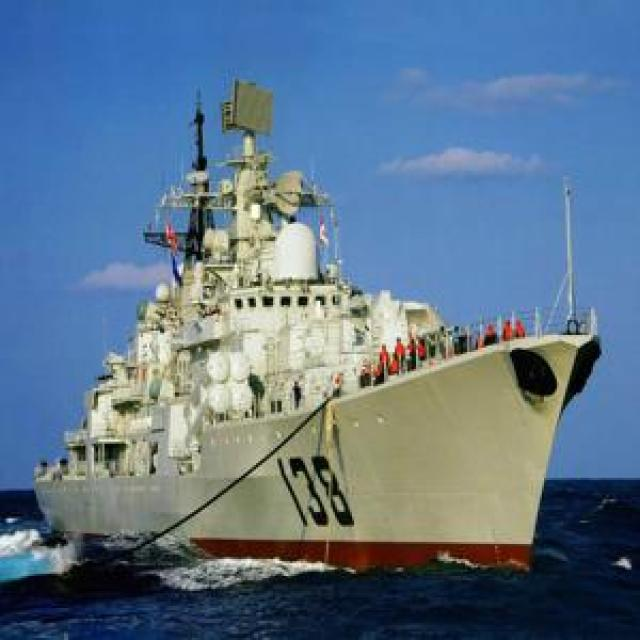navalvessels: (35, 75, 603, 573)
